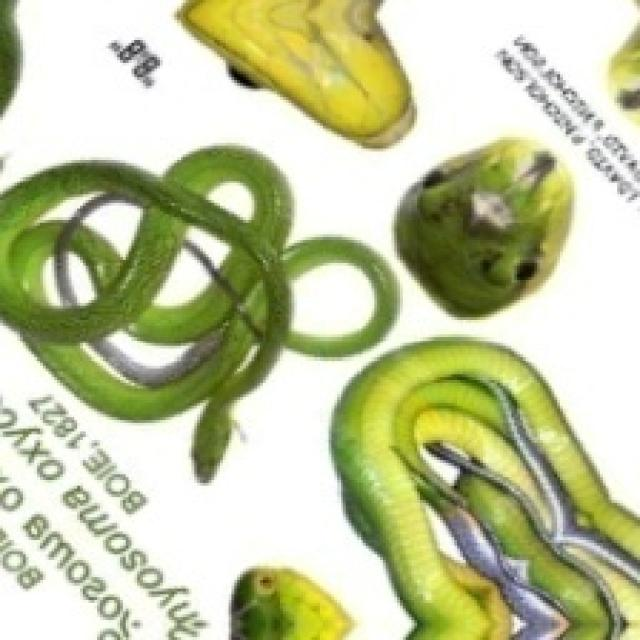red-tailed green ratsnake: (0, 146, 394, 480), (331, 337, 637, 637), (177, 0, 411, 146), (394, 137, 571, 314)
